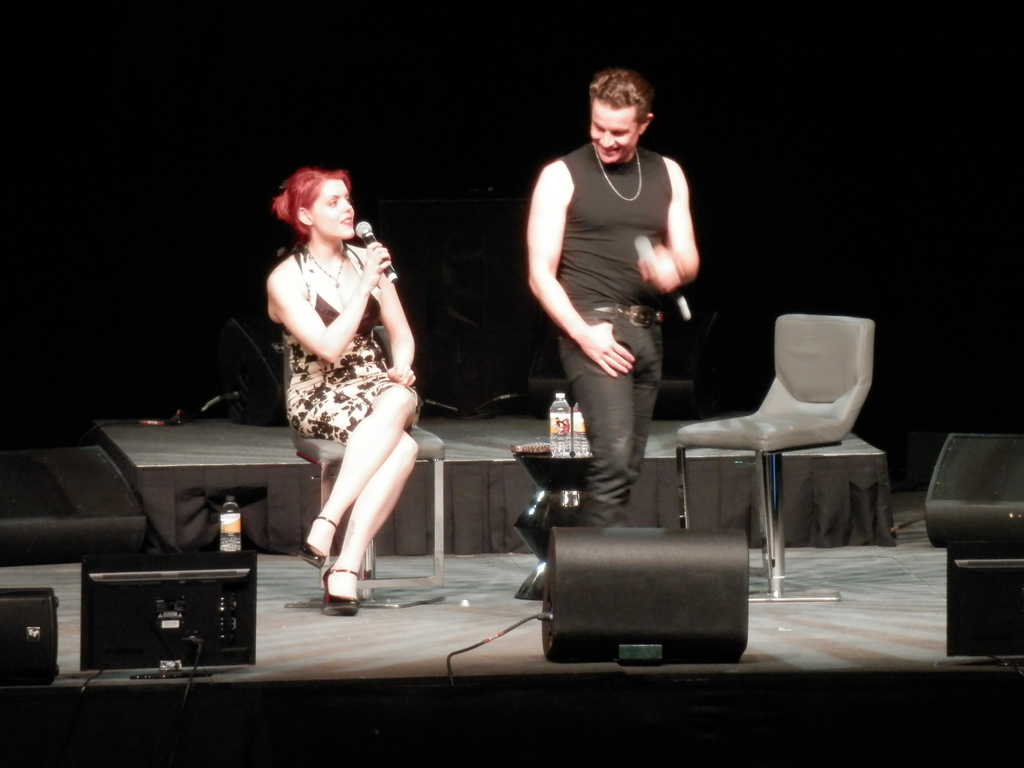Footwear: (323, 564, 362, 614), (296, 519, 330, 569)
